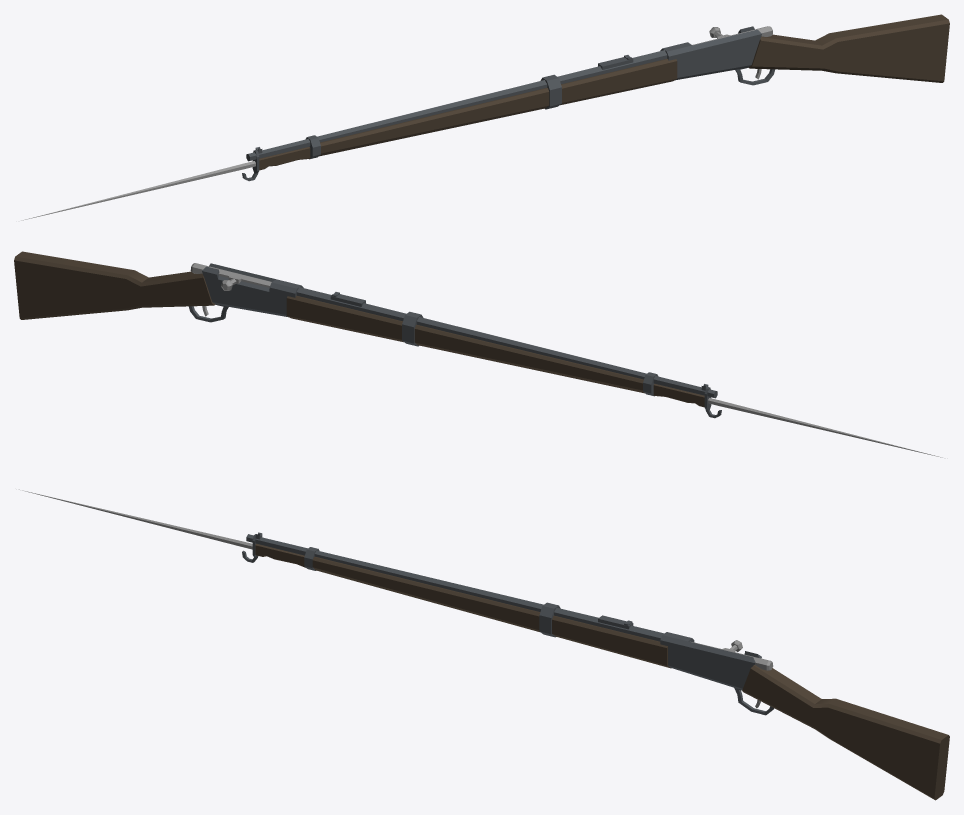
The model's file is Lebel.fbx.
3 renders of one model, top to bottom at view 1: azimuth 30°, elevation 25°; view 2: azimuth 150°, elevation 25°; view 3: azimuth 330°, elevation 25°, orthographic.
Visible parts, largest first — view 1: Lebel, Bayonet; view 2: Lebel, Bayonet, bolt; view 3: Lebel, Bayonet.
Boxes of the visible parts, x1,y1,x2,y2 form: Lebel: (246, 14, 949, 161); Bayonet: (21, 147, 310, 220); Lebel: (14, 251, 717, 398); Bayonet: (653, 384, 942, 457); bolt: (190, 263, 271, 290); Lebel: (246, 532, 949, 800); Bayonet: (19, 489, 305, 567).
Bounding box in the file's own units: 360 × 36.78 × 12.2.
